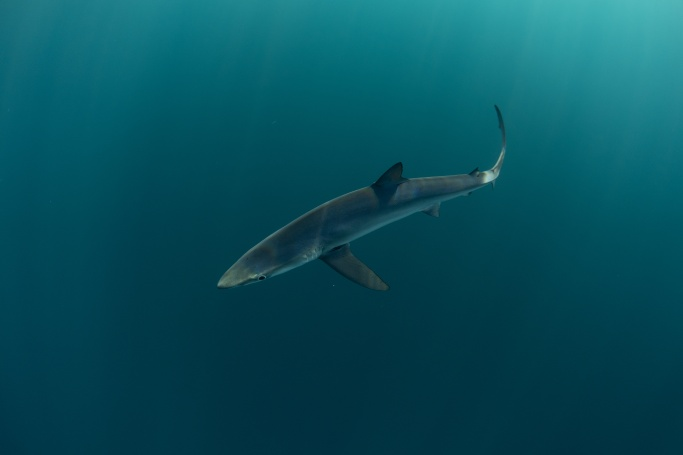Azul: (162, 93, 552, 322)
